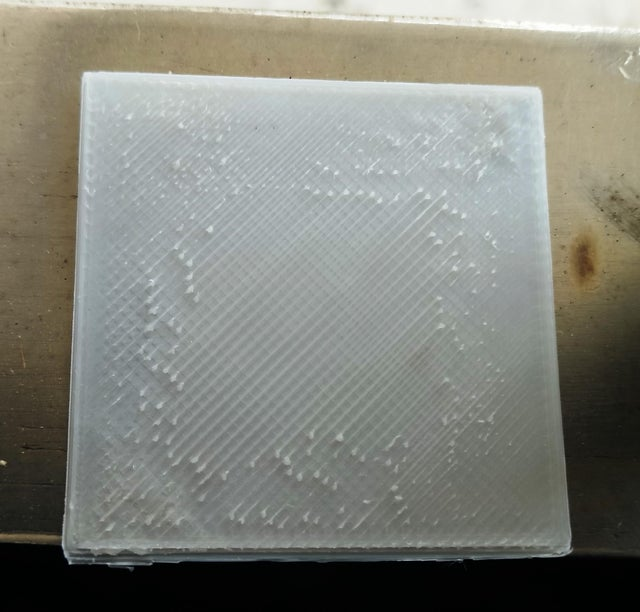blob: (127, 383, 298, 510), (421, 185, 505, 438), (234, 418, 417, 526), (112, 286, 194, 461), (164, 114, 261, 214), (290, 153, 449, 212), (401, 110, 517, 186), (160, 213, 230, 320), (114, 106, 201, 189), (92, 485, 200, 539)
